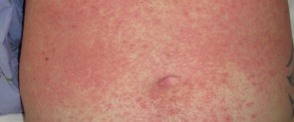SJS-TEN: (24, 0, 294, 122)
